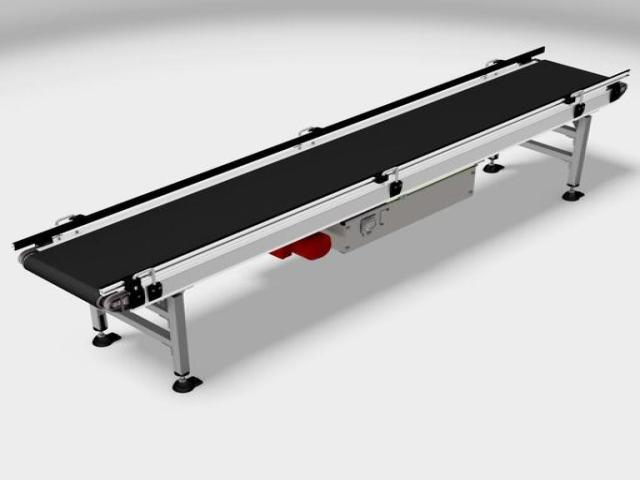conveyor: (9, 49, 622, 380)
